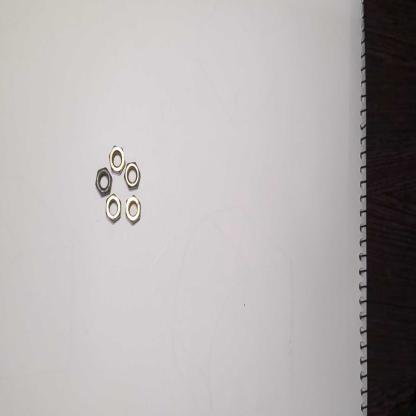NUTS: (124, 191, 144, 227), (92, 165, 113, 199), (105, 189, 123, 226), (122, 161, 143, 192), (108, 142, 126, 175)
